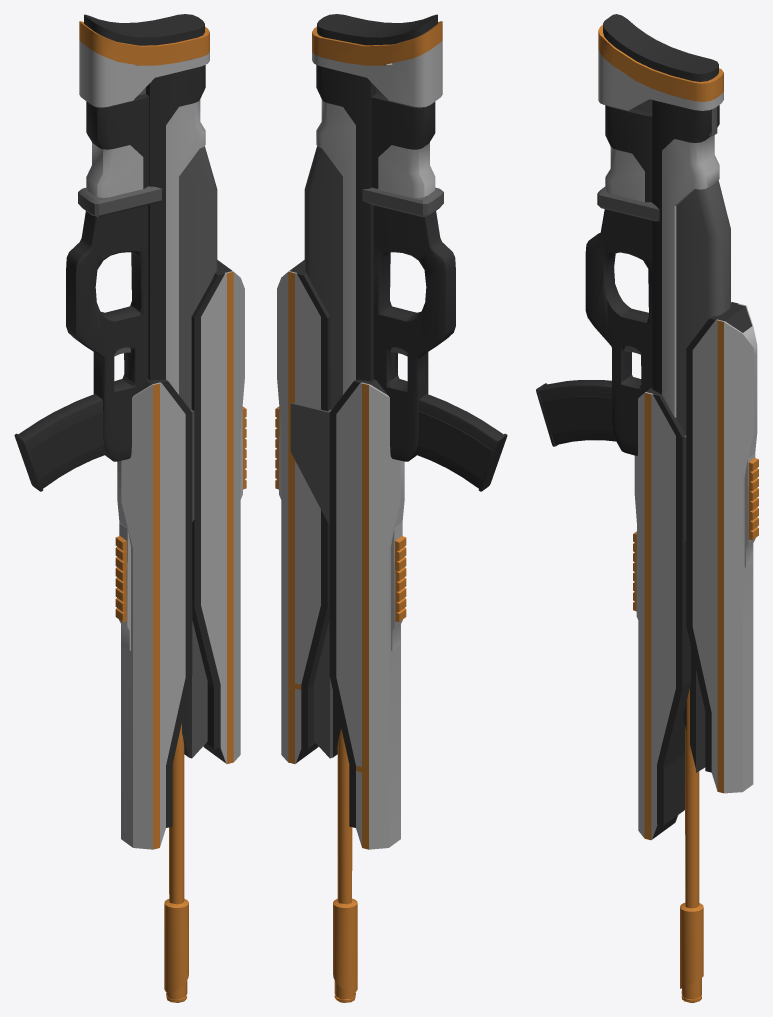
The model's file is qg-sniper-1-lod1.glb.
The picture shows the model from 3 angles, left to right: view 1: azimuth 30°, elevation 25°; view 2: azimuth 150°, elevation 25°; view 3: azimuth 330°, elevation 25°; orthographic projection. The views are drawn at different scales.
Parts seen in each view (by area): view 1: WeaponMesh_qg-sniper-1_Sniper_1, WeaponMesh_qg-sniper-1_Magazine_Sniper; view 2: WeaponMesh_qg-sniper-1_Sniper_1, WeaponMesh_qg-sniper-1_Magazine_Sniper; view 3: WeaponMesh_qg-sniper-1_Sniper_1, WeaponMesh_qg-sniper-1_Magazine_Sniper.
Boxes of the visible parts, <box> form: WeaponMesh_qg-sniper-1_Sniper_1: <box>66,14,246,1002</box>; WeaponMesh_qg-sniper-1_Magazine_Sniper: <box>14,394,107,491</box>; WeaponMesh_qg-sniper-1_Sniper_1: <box>275,14,455,1002</box>; WeaponMesh_qg-sniper-1_Magazine_Sniper: <box>414,394,507,491</box>; WeaponMesh_qg-sniper-1_Sniper_1: <box>585,14,758,1002</box>; WeaponMesh_qg-sniper-1_Magazine_Sniper: <box>536,380,616,446</box>.
Bounding box in the file's own units: 0.3334 × 1.42 × 0.0657.
